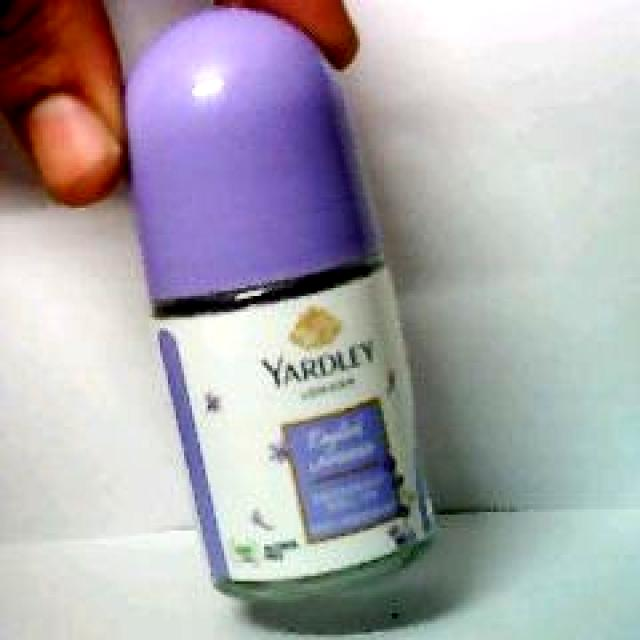yardley_rollon: (125, 8, 437, 600)
